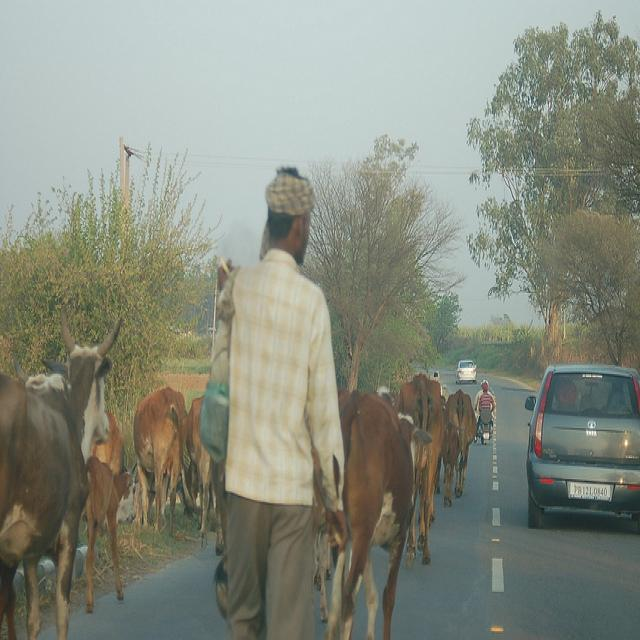motor: (481, 406, 493, 448)
